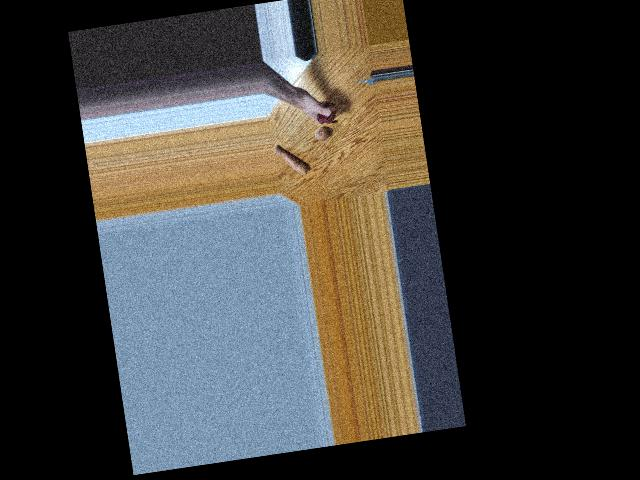onion: (313, 102, 335, 125)
